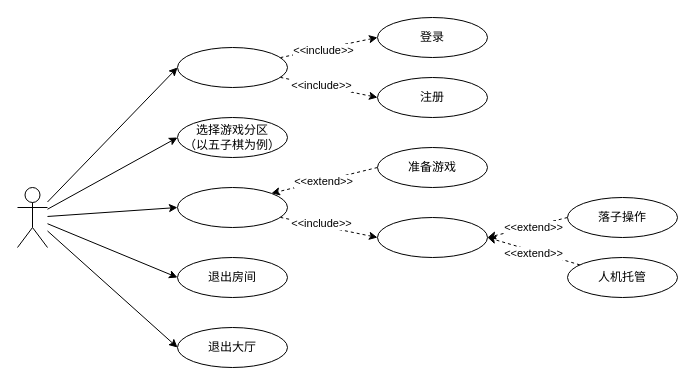
Some shapes in this 695 by 385 pixel diagram are drawn without their labels. The centre of each missing label's shape, as x and y in pixels:
"加入房间" goes at (232,207).
"开始游戏" goes at (432,237).
"注册登录系统" goes at (232,67).
"用户" goes at (32,217).
